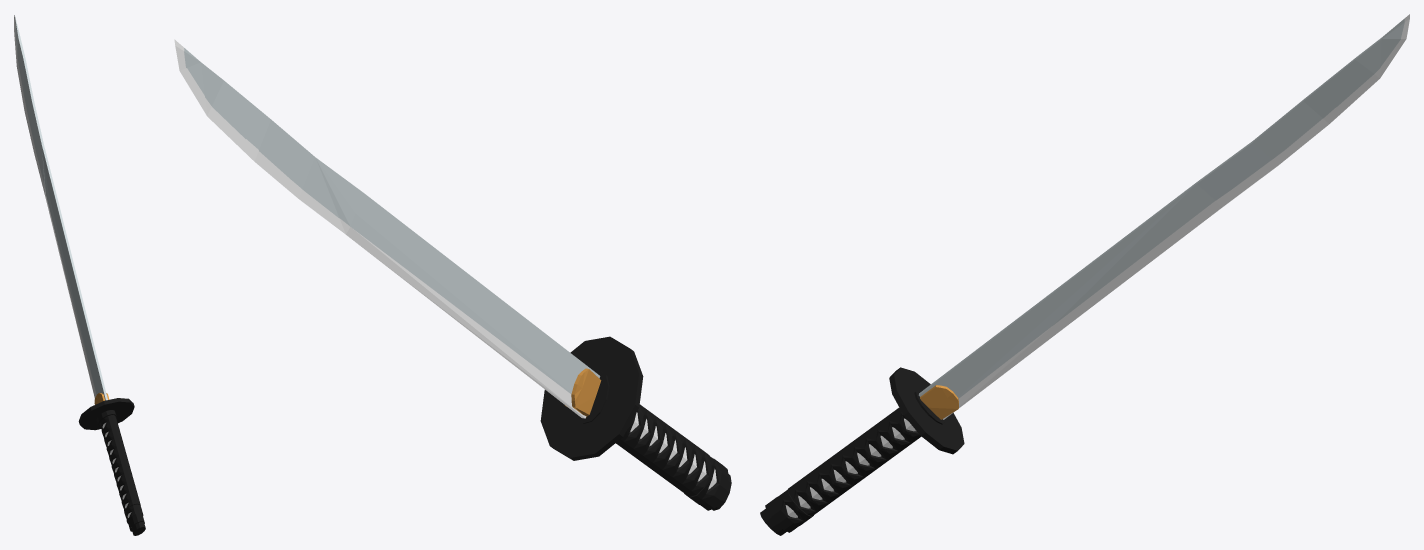
File: Katana Sword.glb
The picture shows the model from 3 angles, left to right: view 1: azimuth 30°, elevation 25°; view 2: azimuth 150°, elevation 25°; view 3: azimuth 270°, elevation 25°; orthographic projection. The views are drawn at different scales.
Visible parts, largest first — view 1: group1141768986; view 2: group1141768986; view 3: group1141768986.
Part boxes in pixels (bbox=[...]): group1141768986: bbox=[14, 15, 145, 535]; group1141768986: bbox=[174, 39, 731, 510]; group1141768986: bbox=[760, 14, 1409, 535].
Bounding box in the file's own units: 0.7724 × 3.23 × 3.29.
